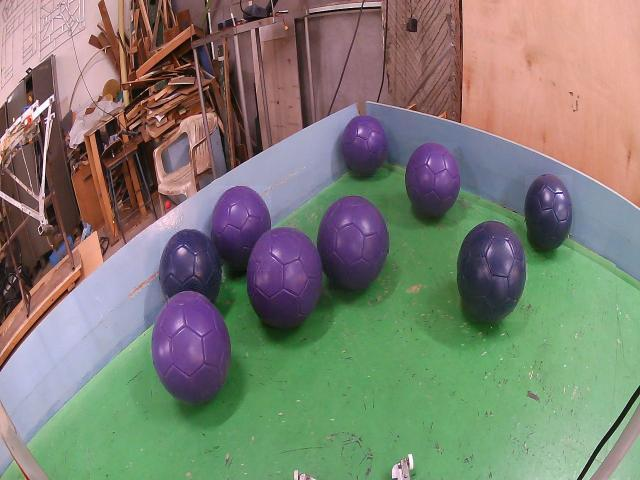jambhalya: (151, 292, 230, 403), (247, 227, 323, 328), (317, 195, 388, 290), (212, 186, 271, 271), (405, 143, 460, 217), (342, 116, 388, 176)
kaalyya: (457, 220, 527, 322), (160, 230, 221, 301), (525, 175, 572, 250)
